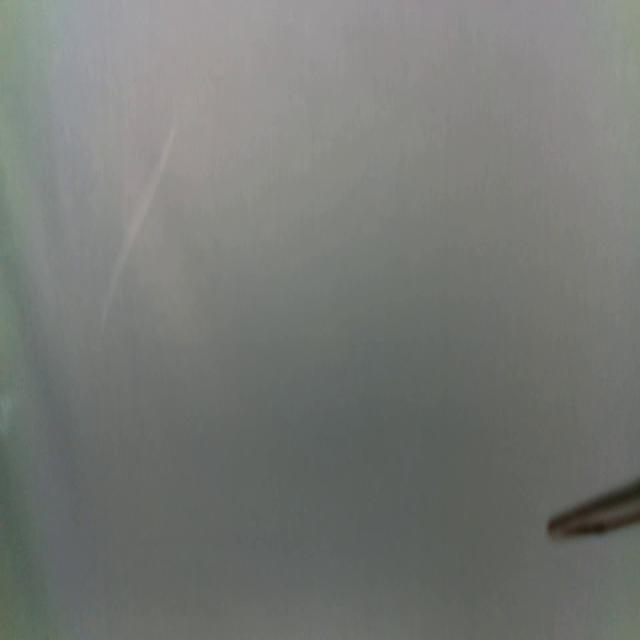crease: (99, 128, 177, 331)
